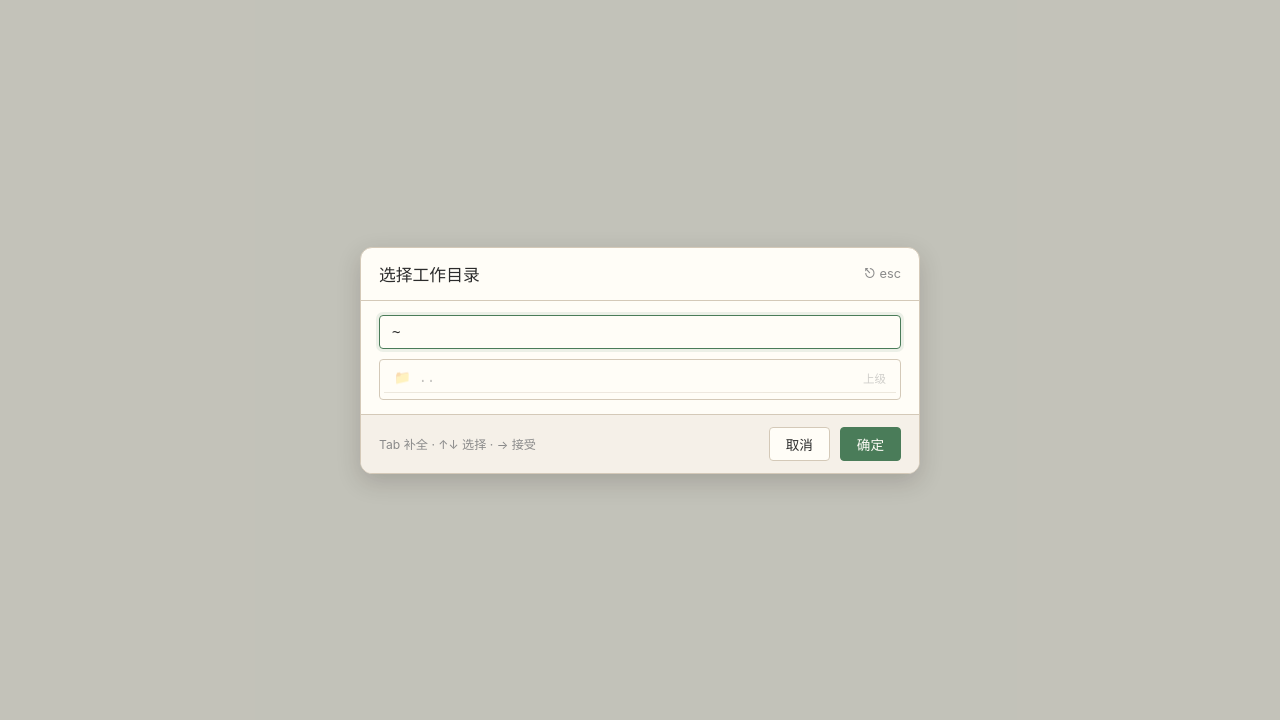
Scenario: WorkdirPicker › 确定 button is disabled when input is empty
Clear the field named "工作目录" at (640, 332), box [379,314,901,348]
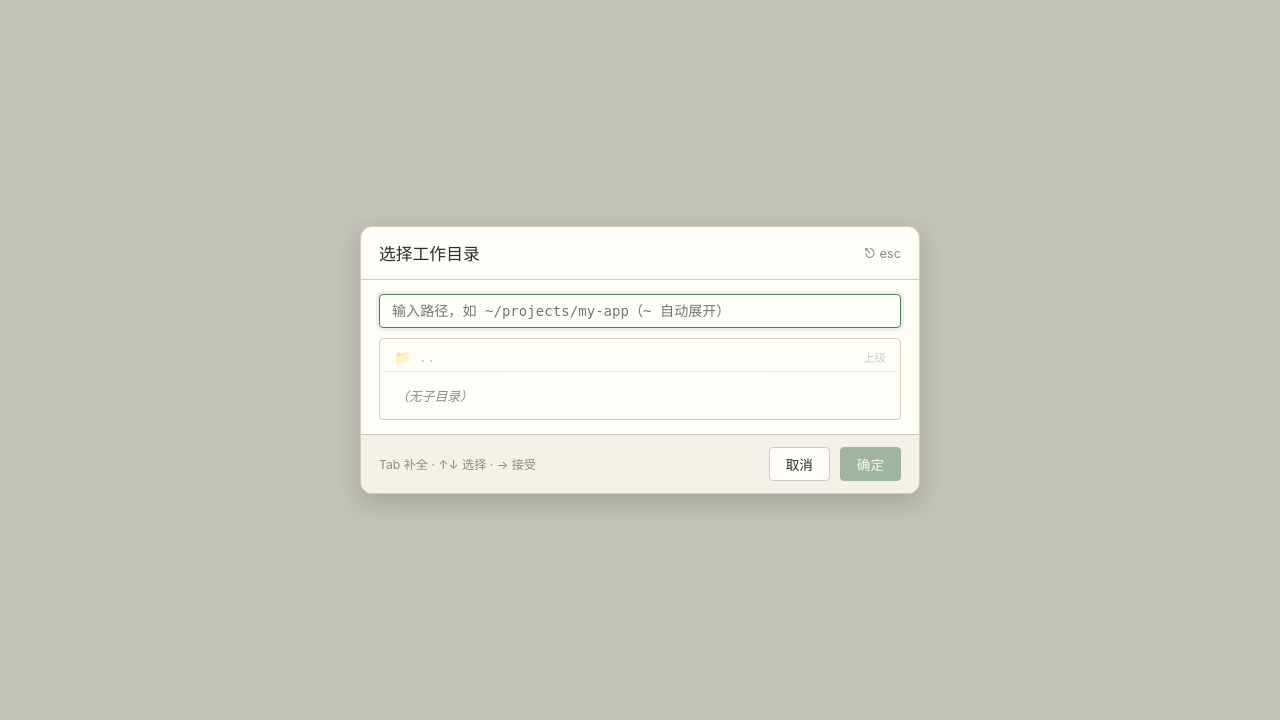
Check: the button "确定" is disabled, box [840,447,901,481]
